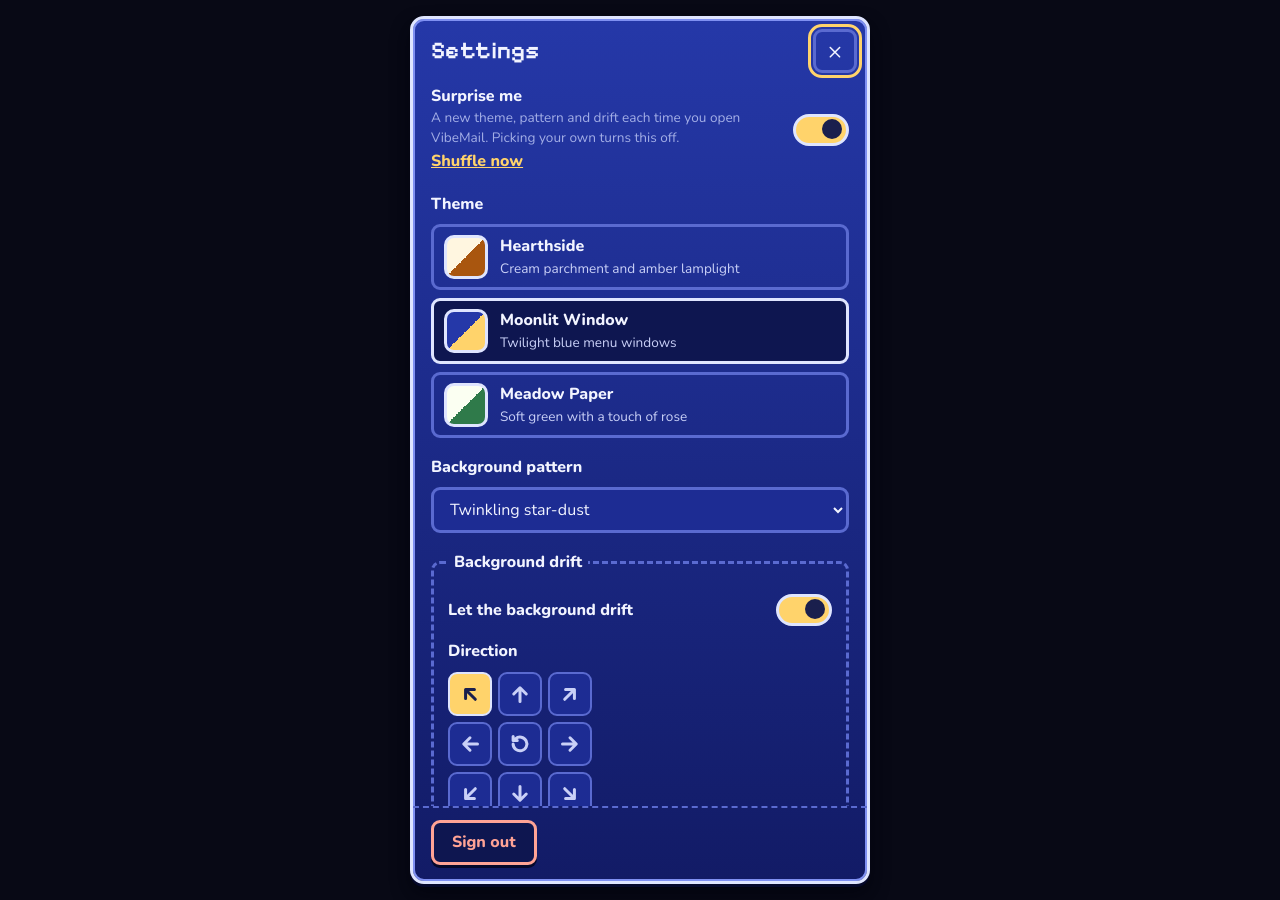
Test: Surprise me includes the drift › keeps the theme, pattern and speed when you pick a direction
Click the radio button named "Drift to the right". click: (570, 744)
box: [548, 722, 592, 766]
(page scrolled)
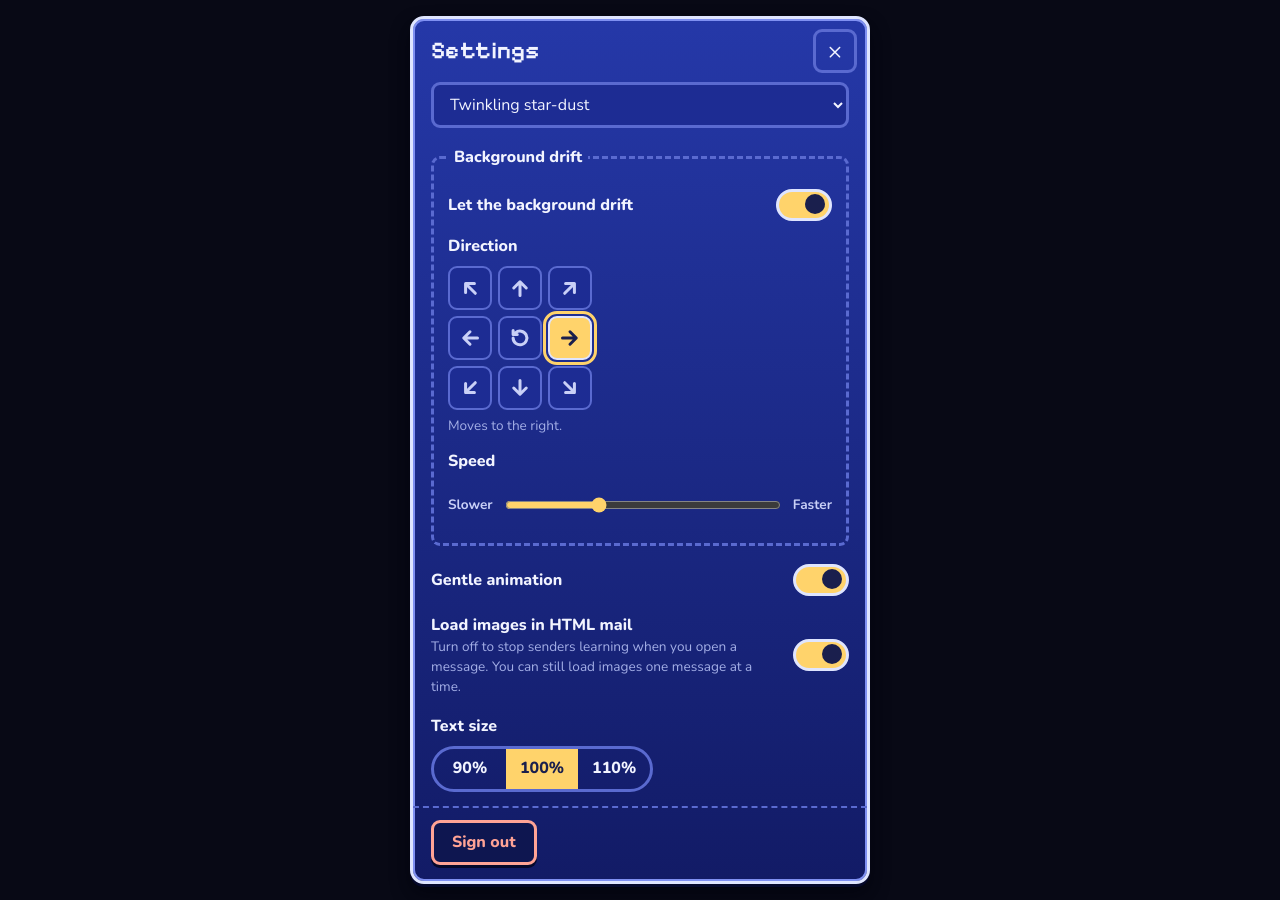
Expected: the slider labelled "Speed" holds "4", [505, 483, 781, 527]
